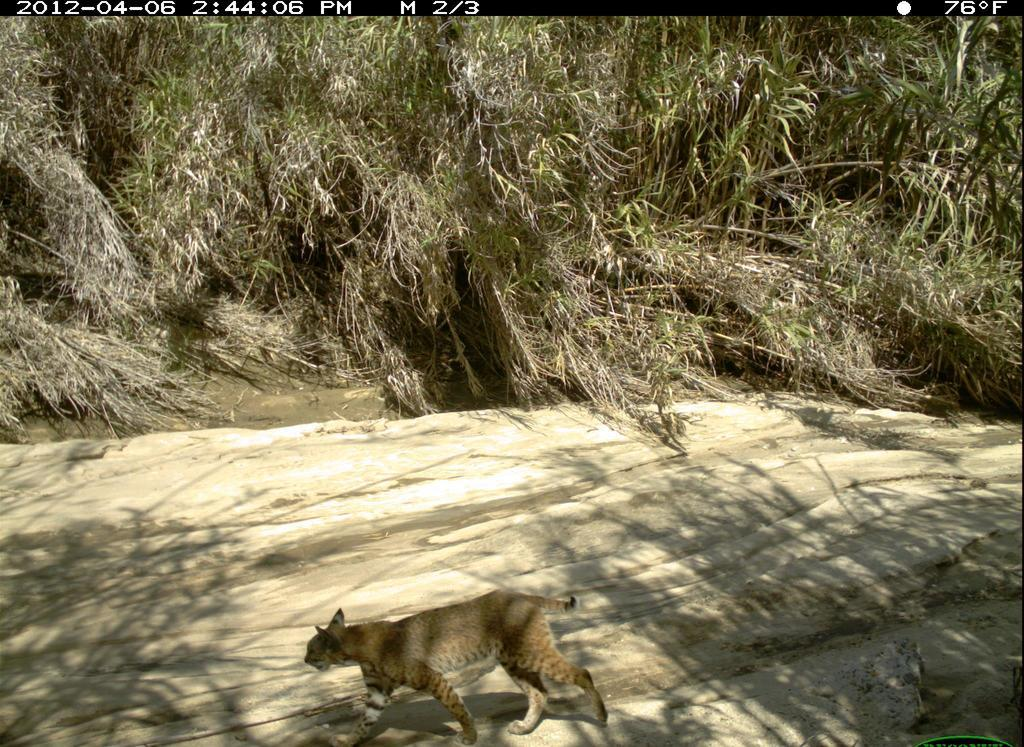bobcat: (258, 583, 688, 747)
